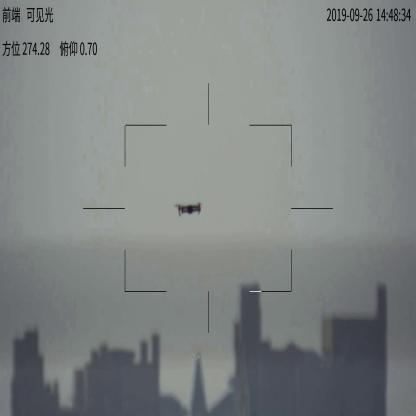uav: (176, 200, 209, 218)
